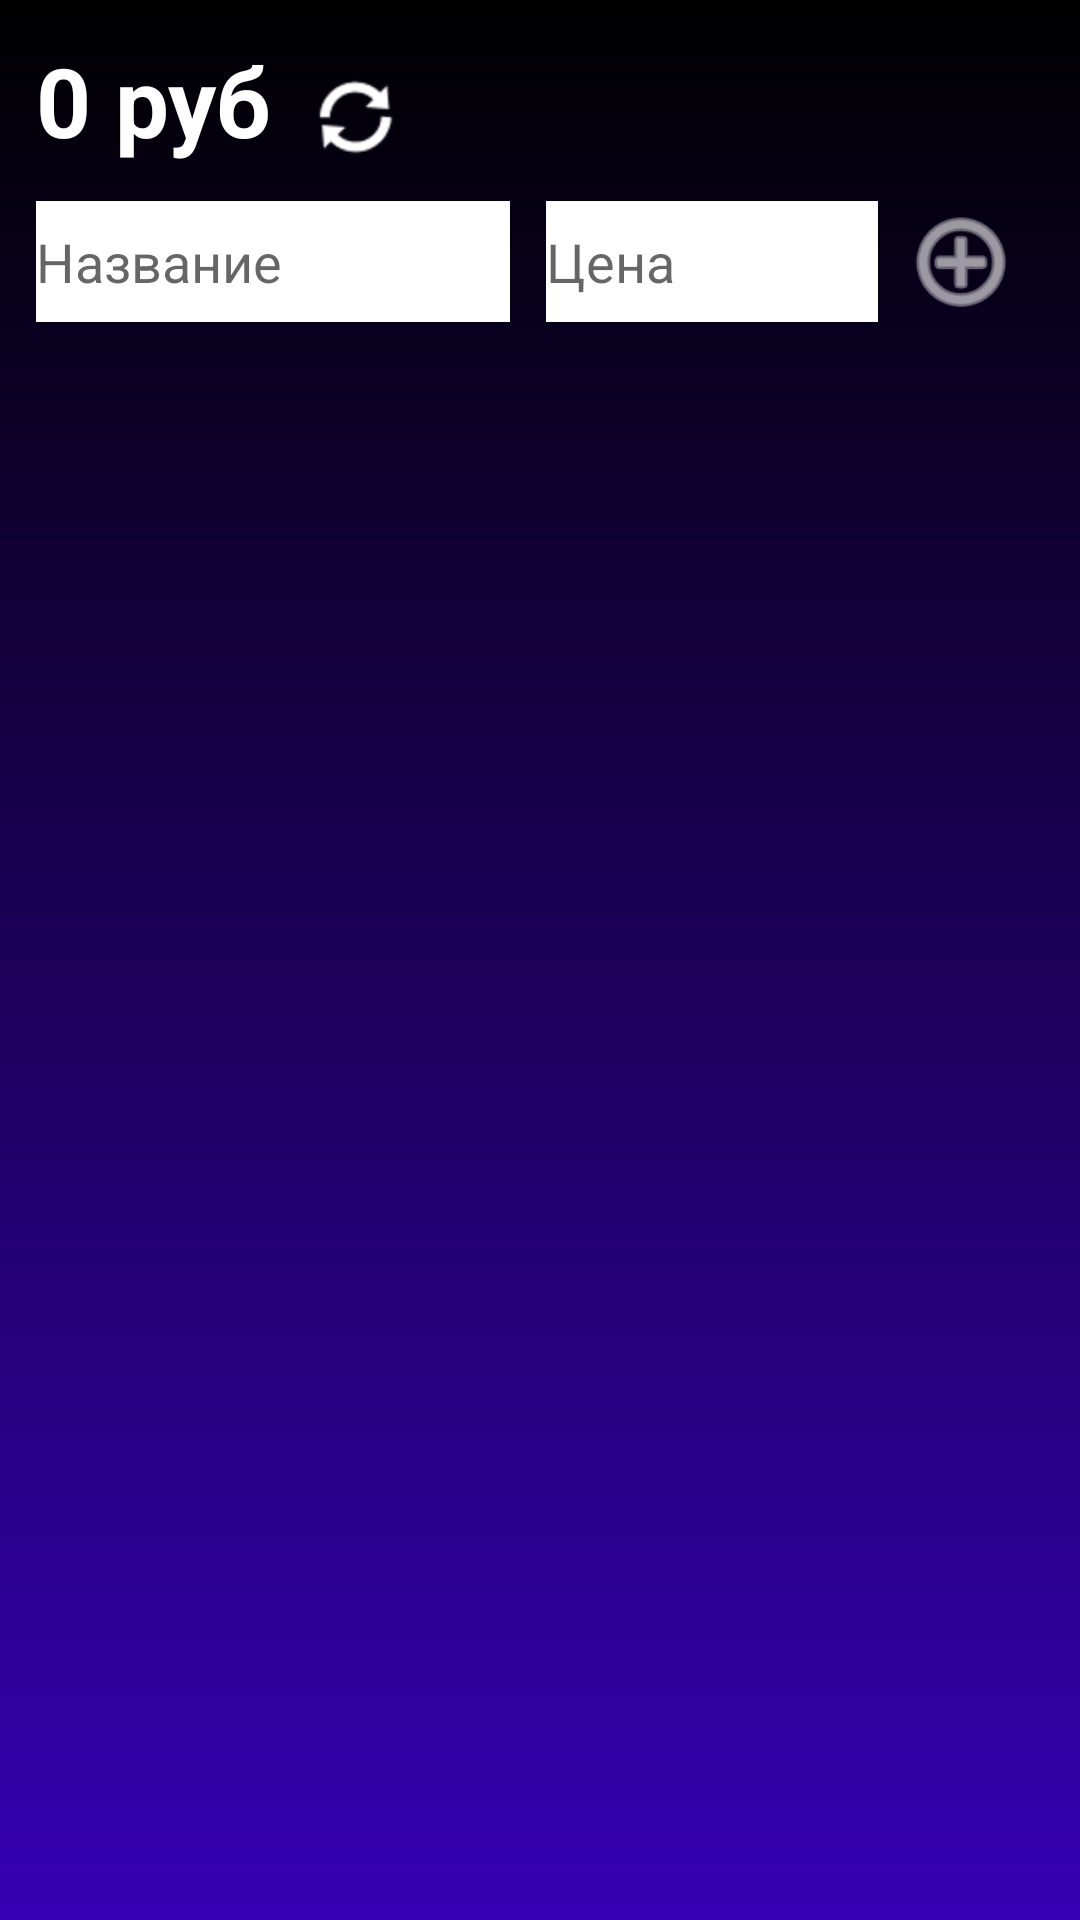

Icon bounding boxes for this 1080 × 1920 phone screenshot, format {"left": x1, "top": y1, "right": x2, "bottom": y2}:
add: {"left": 916, "top": 217, "right": 1006, "bottom": 307}
popup sync: {"left": 319, "top": 81, "right": 393, "bottom": 153}
